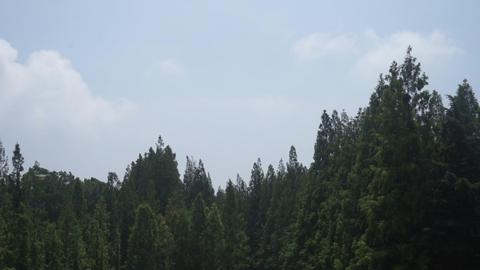UAV: (34, 174, 49, 180)
